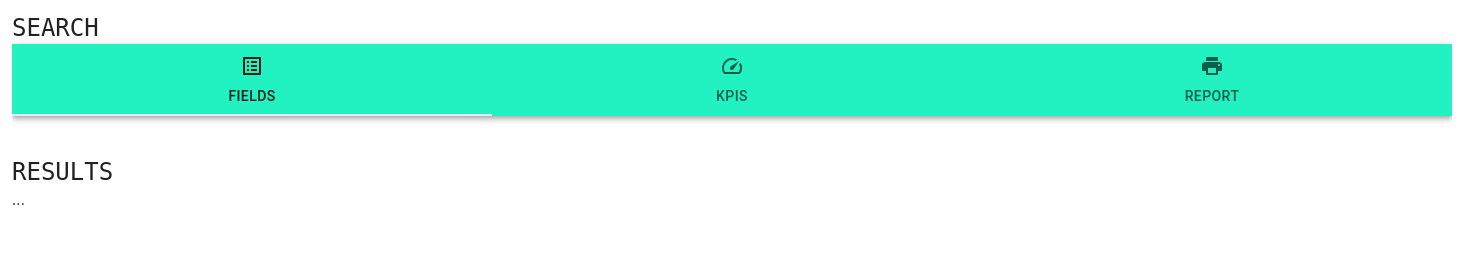
it: <Search /> › should add facet to search term
Click the tab titled "Fields" at (252, 80), box [12, 44, 492, 116]
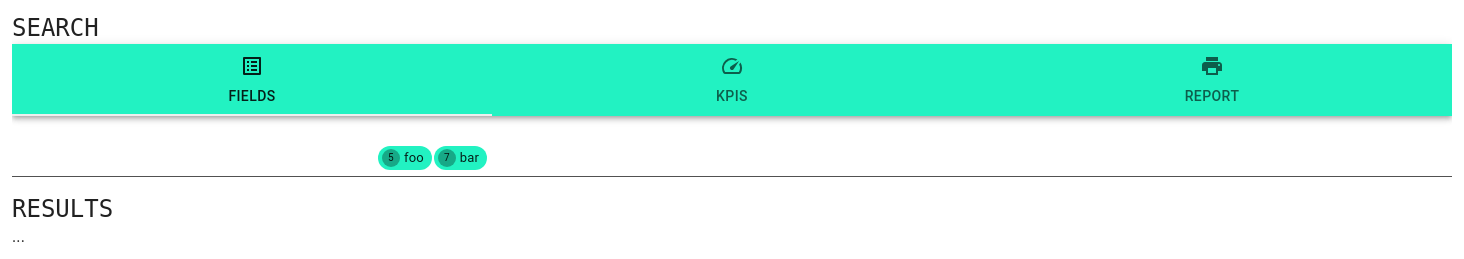
Result: the text "foo" is shown at [404, 150, 424, 165]
